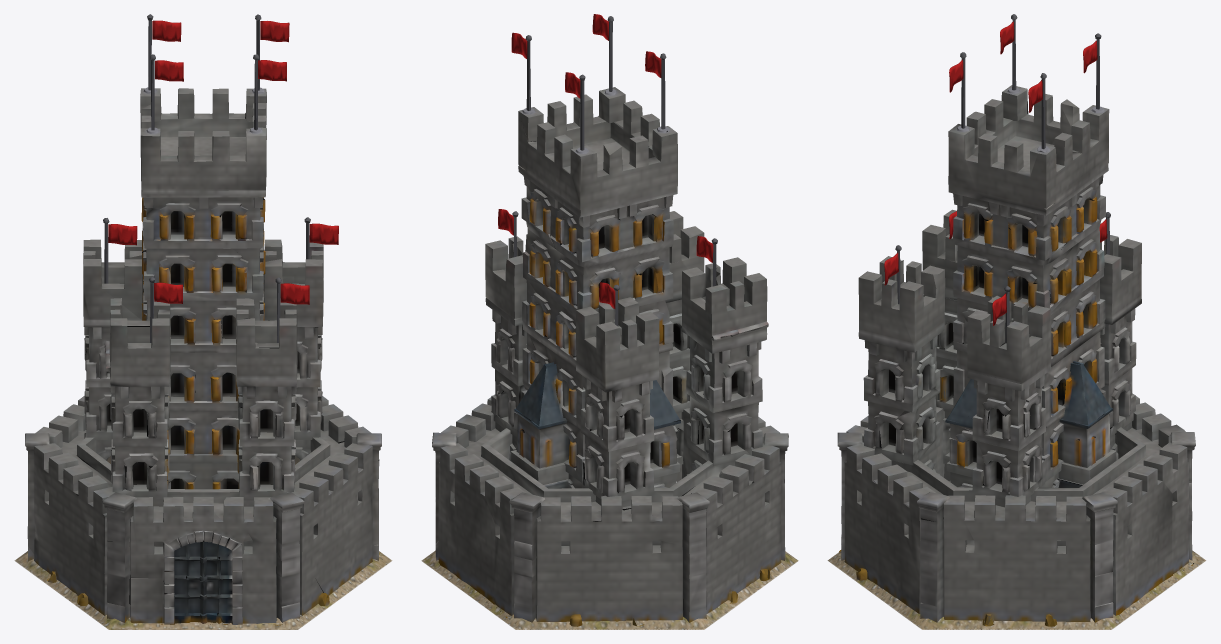
File: empire.glb
3 views of the same model, side by side, from view 1: azimuth 30°, elevation 25°; view 2: azimuth 150°, elevation 25°; view 3: azimuth 270°, elevation 25° (orthographic).
Visible parts, largest first — view 1: architecture, order-cloth, ground; view 2: architecture, ground, order-cloth; view 3: architecture, ground, order-cloth.
Part boxes in pixels (bbox=[...]): architecture: bbox=[25, 14, 381, 625]; order-cloth: bbox=[108, 20, 338, 304]; ground: bbox=[14, 551, 392, 629]; architecture: bbox=[432, 16, 788, 626]; ground: bbox=[421, 550, 798, 629]; order-cloth: bbox=[498, 14, 713, 308]; architecture: bbox=[837, 14, 1195, 626]; ground: bbox=[827, 550, 1206, 629]; order-cloth: bbox=[884, 21, 1107, 325].
Size of the model in its own units: 1.6 by 2.79 by 1.84.
3 materials, 3 textured.
